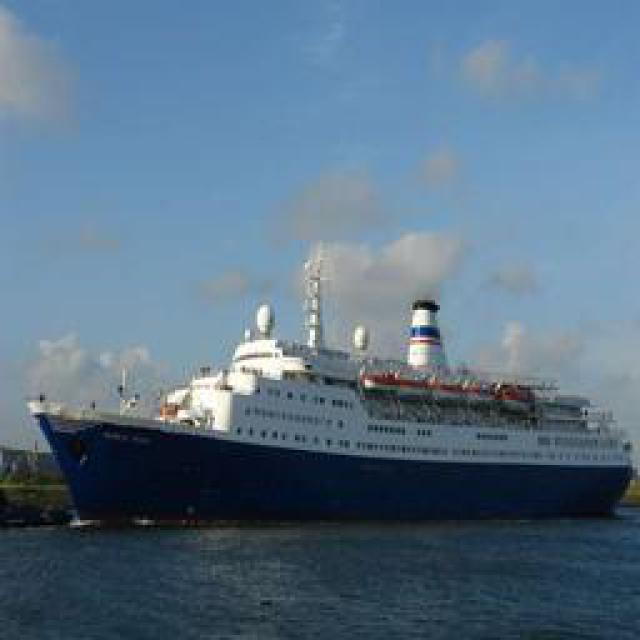Ship: (39, 285, 622, 528)
